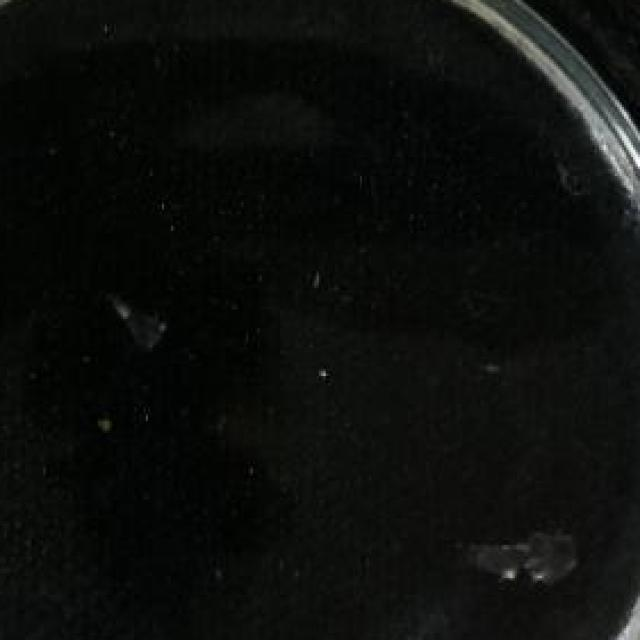Microplastic: (419, 524, 585, 588), (105, 281, 175, 357)
